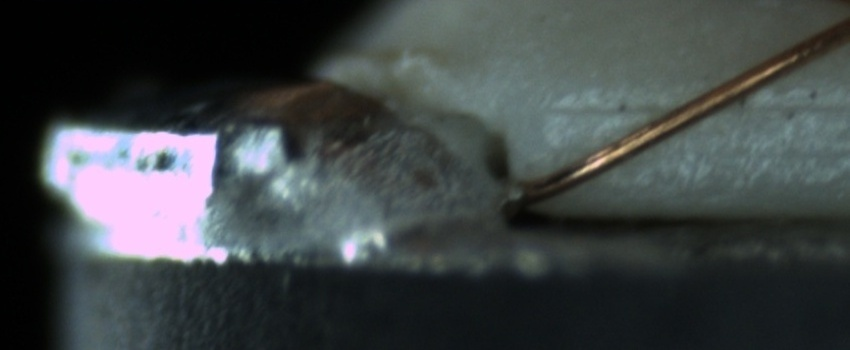DL: (546, 73, 841, 137)
